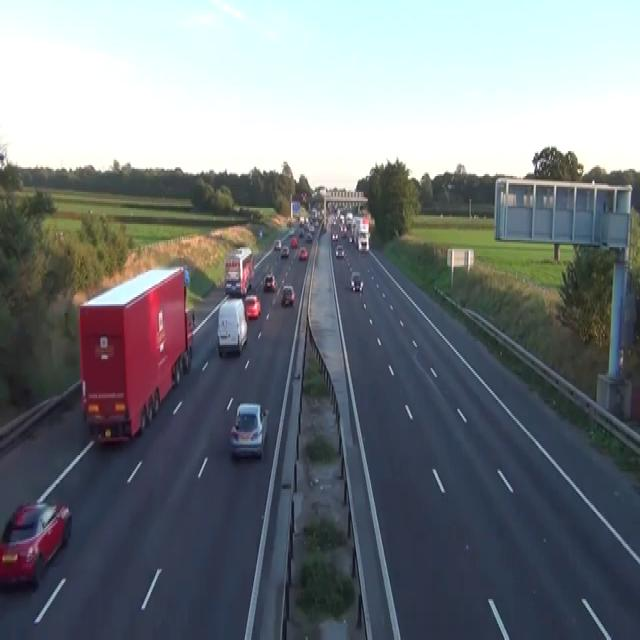Car: (0, 498, 72, 586), (229, 402, 269, 458), (243, 294, 260, 318), (281, 284, 295, 306), (225, 274, 241, 293), (350, 270, 363, 292), (263, 272, 276, 290), (185, 308, 195, 330), (54, 228, 64, 242), (298, 247, 308, 260), (335, 244, 344, 258), (0, 149, 7, 167), (280, 245, 289, 258), (273, 238, 281, 249), (305, 231, 312, 242), (340, 224, 346, 236), (290, 237, 297, 247), (331, 231, 338, 240), (245, 281, 251, 291), (288, 228, 295, 236), (308, 224, 314, 233), (299, 215, 304, 224), (298, 228, 303, 236), (349, 233, 353, 242), (259, 230, 262, 237)
Truck: (78, 265, 195, 444), (216, 297, 247, 355), (224, 245, 254, 297), (350, 215, 370, 251)
